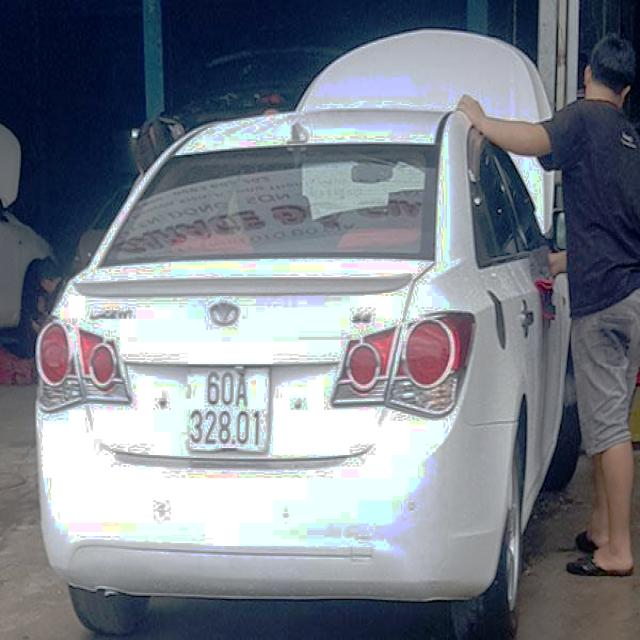license_plate: (188, 372, 271, 452)
